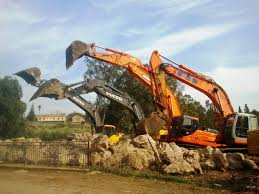excavator: (63, 36, 220, 147), (148, 47, 257, 147)
